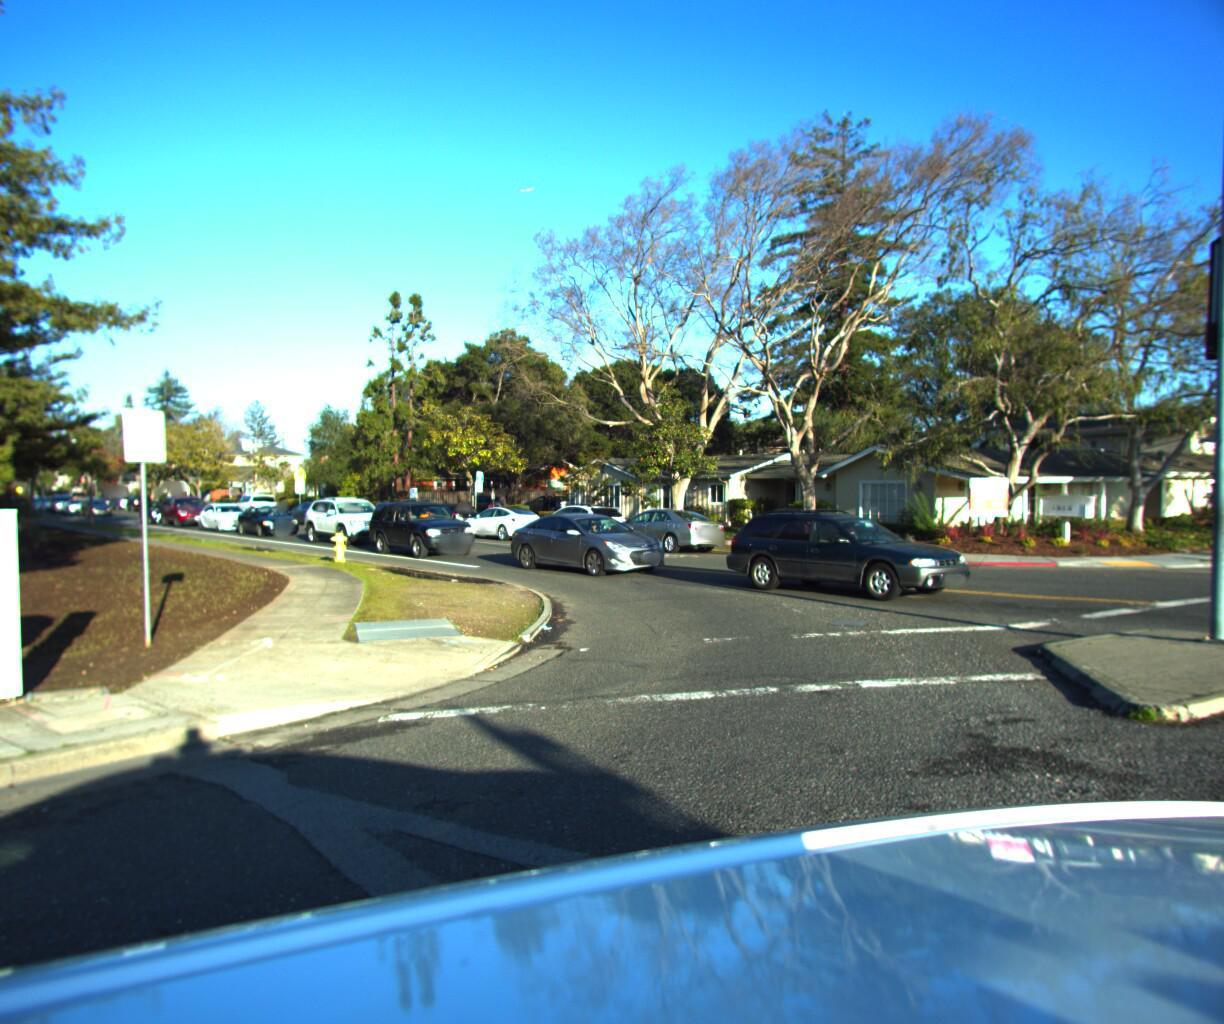car: (720, 503, 991, 611), (503, 506, 681, 579), (360, 496, 487, 561), (598, 501, 737, 555), (525, 498, 636, 547), (301, 493, 404, 545), (460, 500, 554, 542), (229, 500, 308, 540), (407, 497, 490, 535), (195, 499, 261, 534), (158, 492, 219, 526), (232, 489, 284, 518), (81, 500, 118, 522)
